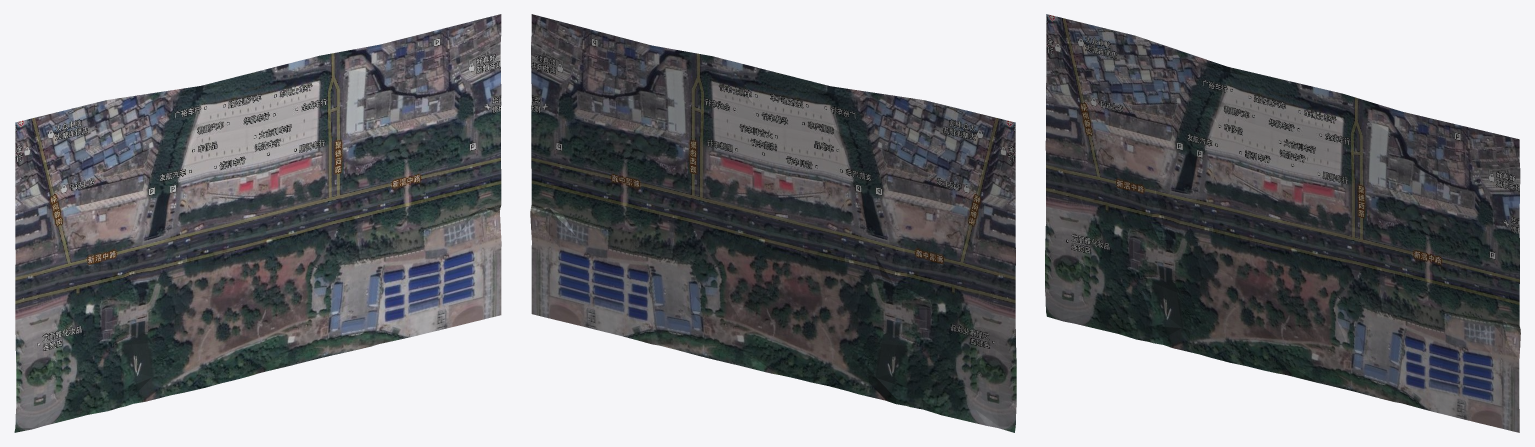
The picture shows the model from 3 angles, left to right: view 1: azimuth 30°, elevation 25°; view 2: azimuth 150°, elevation 25°; view 3: azimuth 330°, elevation 25°; orthographic projection. The views are drawn at different scales.
Visible parts, largest first — view 1: 0_2_3_1_1_0; view 2: 0_2_3_1_1_0; view 3: 0_2_3_1_1_0.
Boxes of the visible parts, box(x1,y1,x2,y2) form: 0_2_3_1_1_0: box(14, 14, 501, 432); 0_2_3_1_1_0: box(530, 14, 1016, 432); 0_2_3_1_1_0: box(1045, 14, 1520, 432).
Bounding box in the file's own units: 486 × 297 × 4.85.
Materials: 1 (1 with a texture image).
